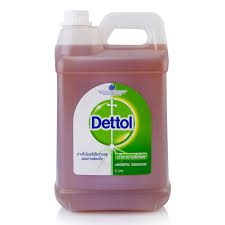Cleaning_solution: (51, 6, 176, 218)
